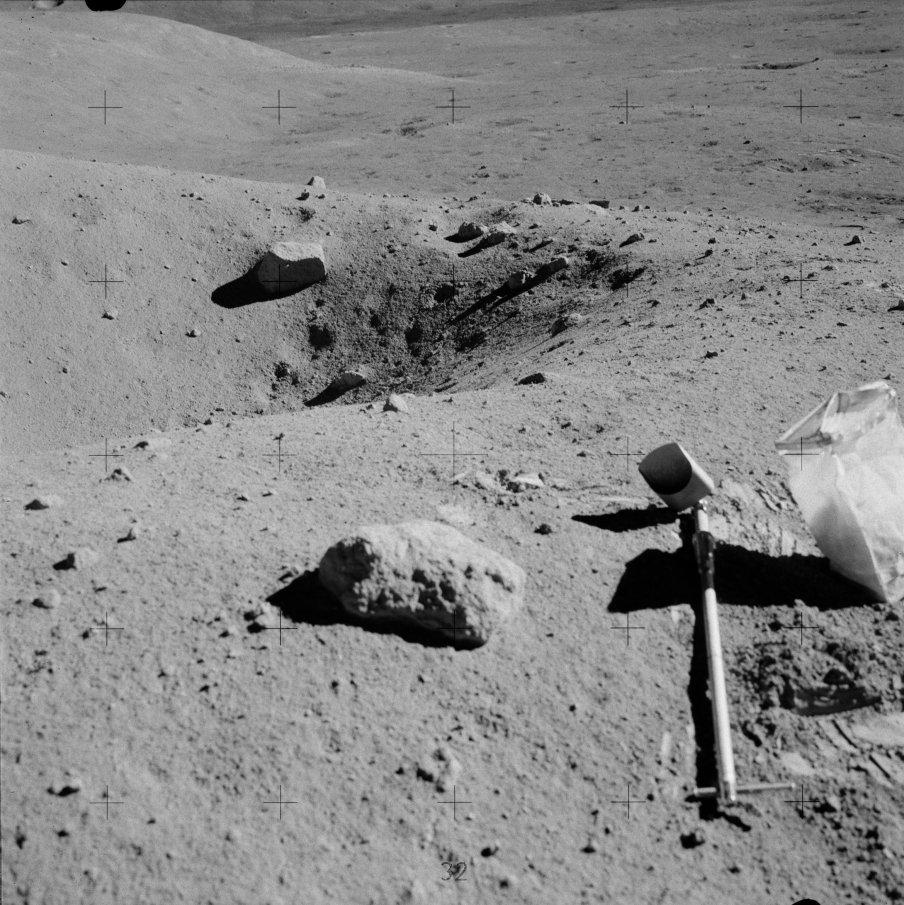rock: (320, 520, 527, 645), (258, 242, 327, 295)
